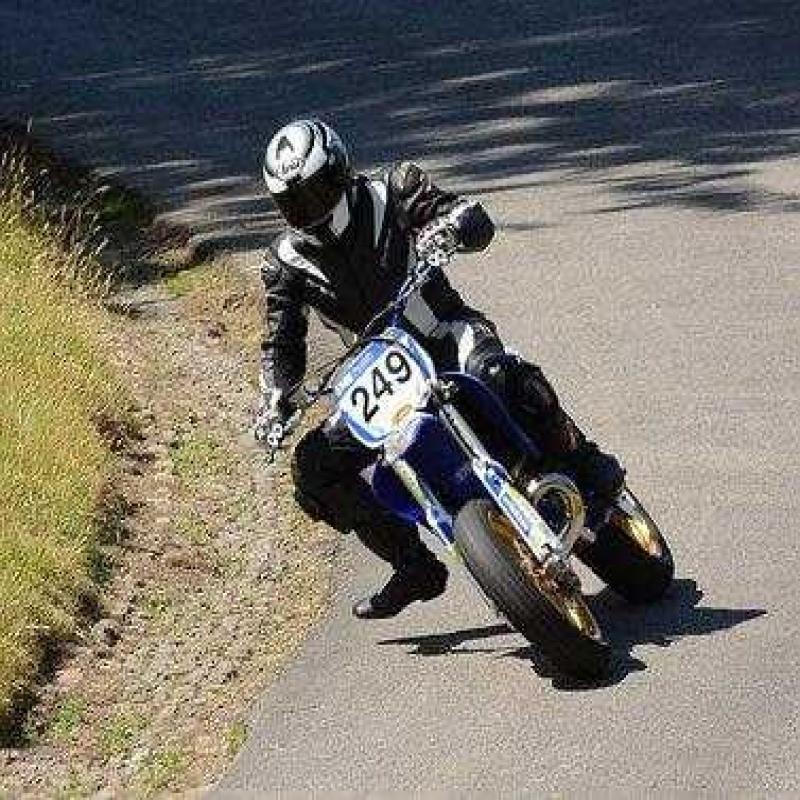bike: (271, 230, 678, 687)
